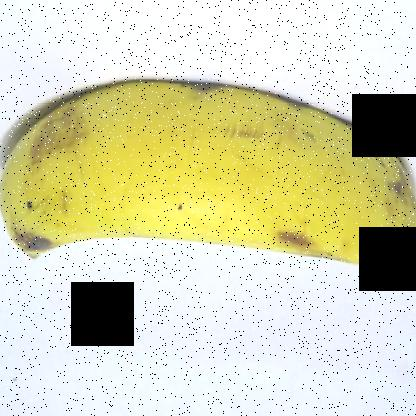freshripe: (0, 59, 415, 291)
